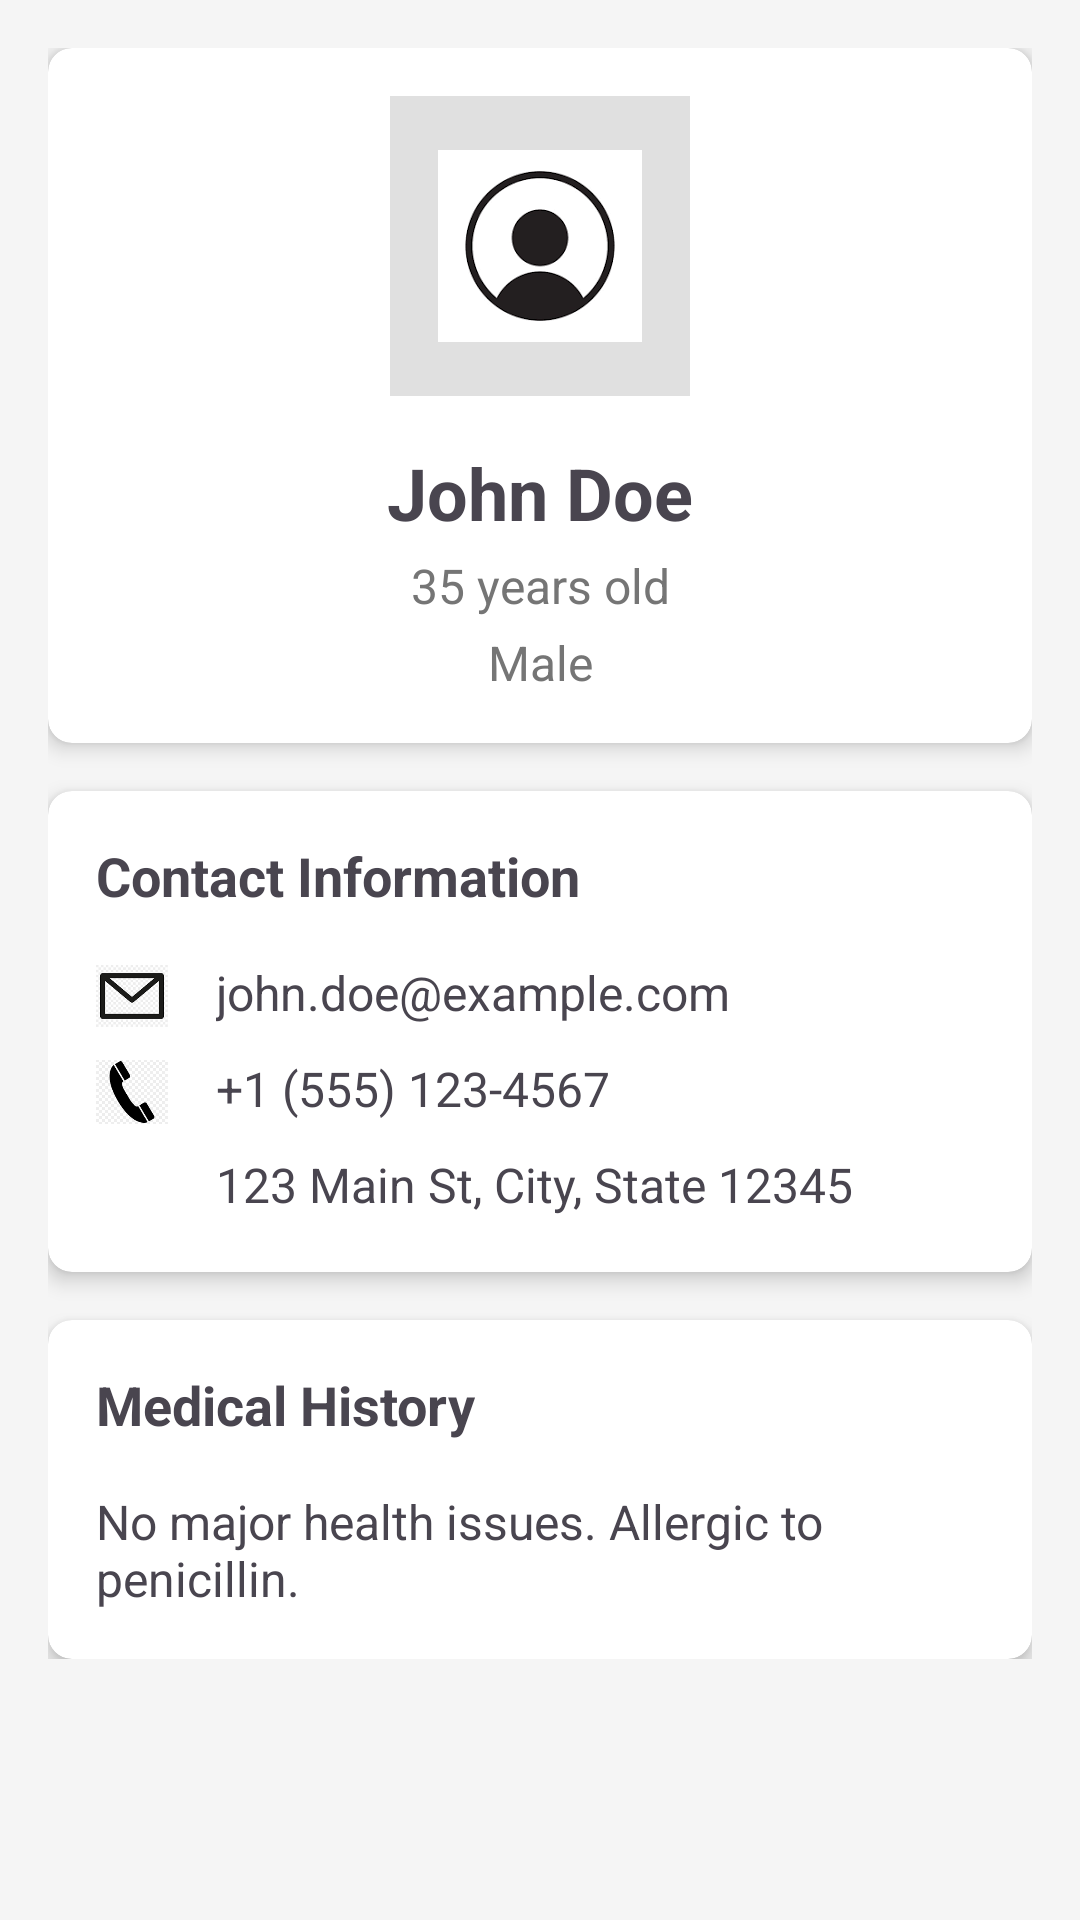

Icons on this 1080px×1920px Android screen, each with the point to tap as (x,y):
Email Icon: (132,996)
Patient Avatar: (540,246)
Phone Icon: (132,1092)
